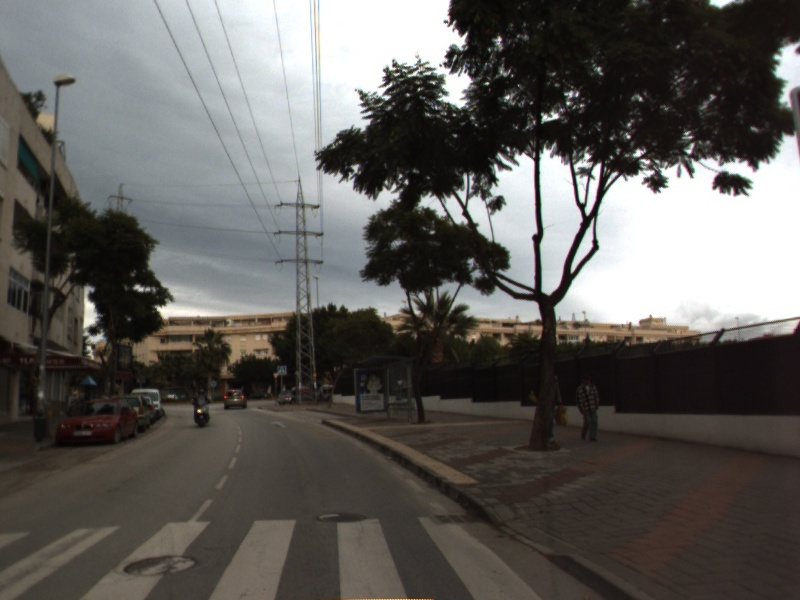STRAIGHT: (268, 418, 288, 430)
